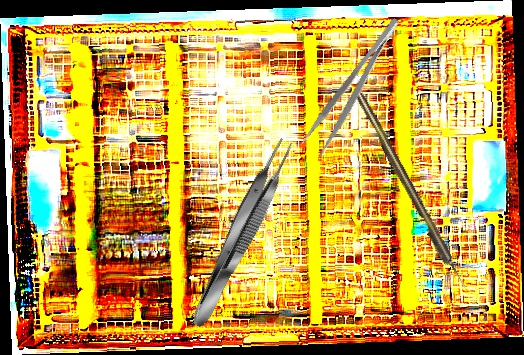Dressing Forceps: (299, 15, 413, 158)
Hook Surgical: (354, 91, 469, 293)
Tissue Forceps: (183, 134, 300, 332)
